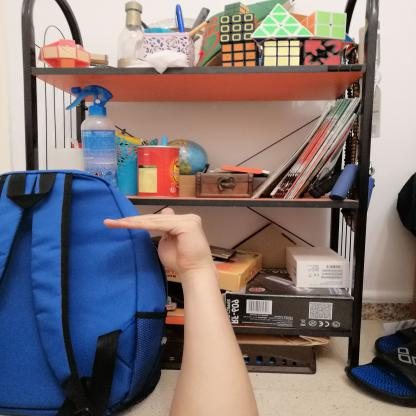KHAA: (92, 198, 224, 282)
